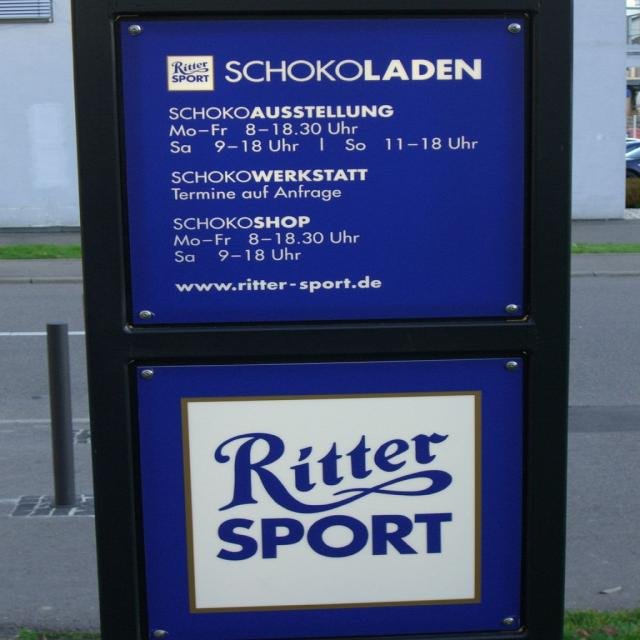rittersport: (187, 392, 478, 612), (165, 55, 219, 94)
